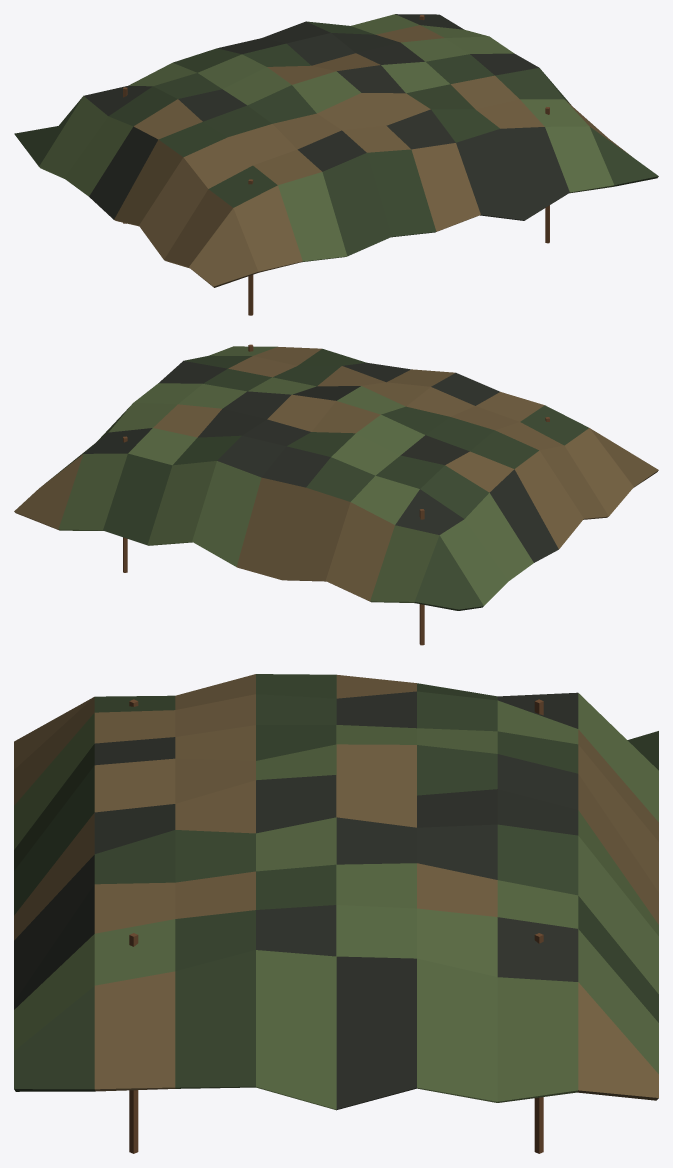
Rendered from kamonat.glb.
3 views of the same model, one above another, from view 1: azimuth 30°, elevation 25°; view 2: azimuth 150°, elevation 25°; view 3: azimuth 270°, elevation 25° (orthographic). The views are drawn at different scales.
Visible parts, largest first — view 1: kamonat; view 2: kamonat; view 3: kamonat.
Part boxes in pixels (x1,y1,x2,y2): kamonat: (14, 14, 658, 315); kamonat: (14, 344, 658, 645); kamonat: (14, 674, 658, 1153).
Size of the model in its own units: 9 by 3.12 by 7.
